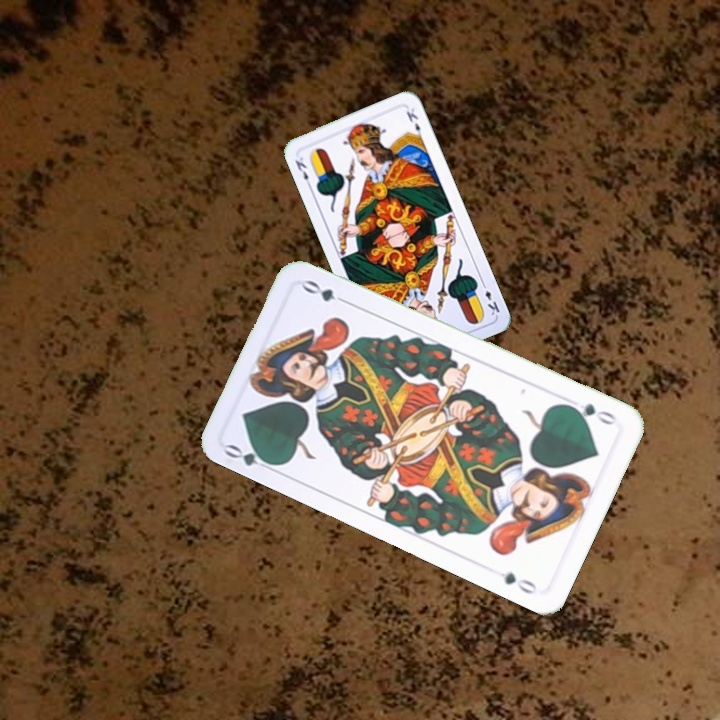EK: (478, 278, 502, 318), (291, 153, 314, 190)
GO: (221, 440, 280, 475), (563, 399, 618, 428)
